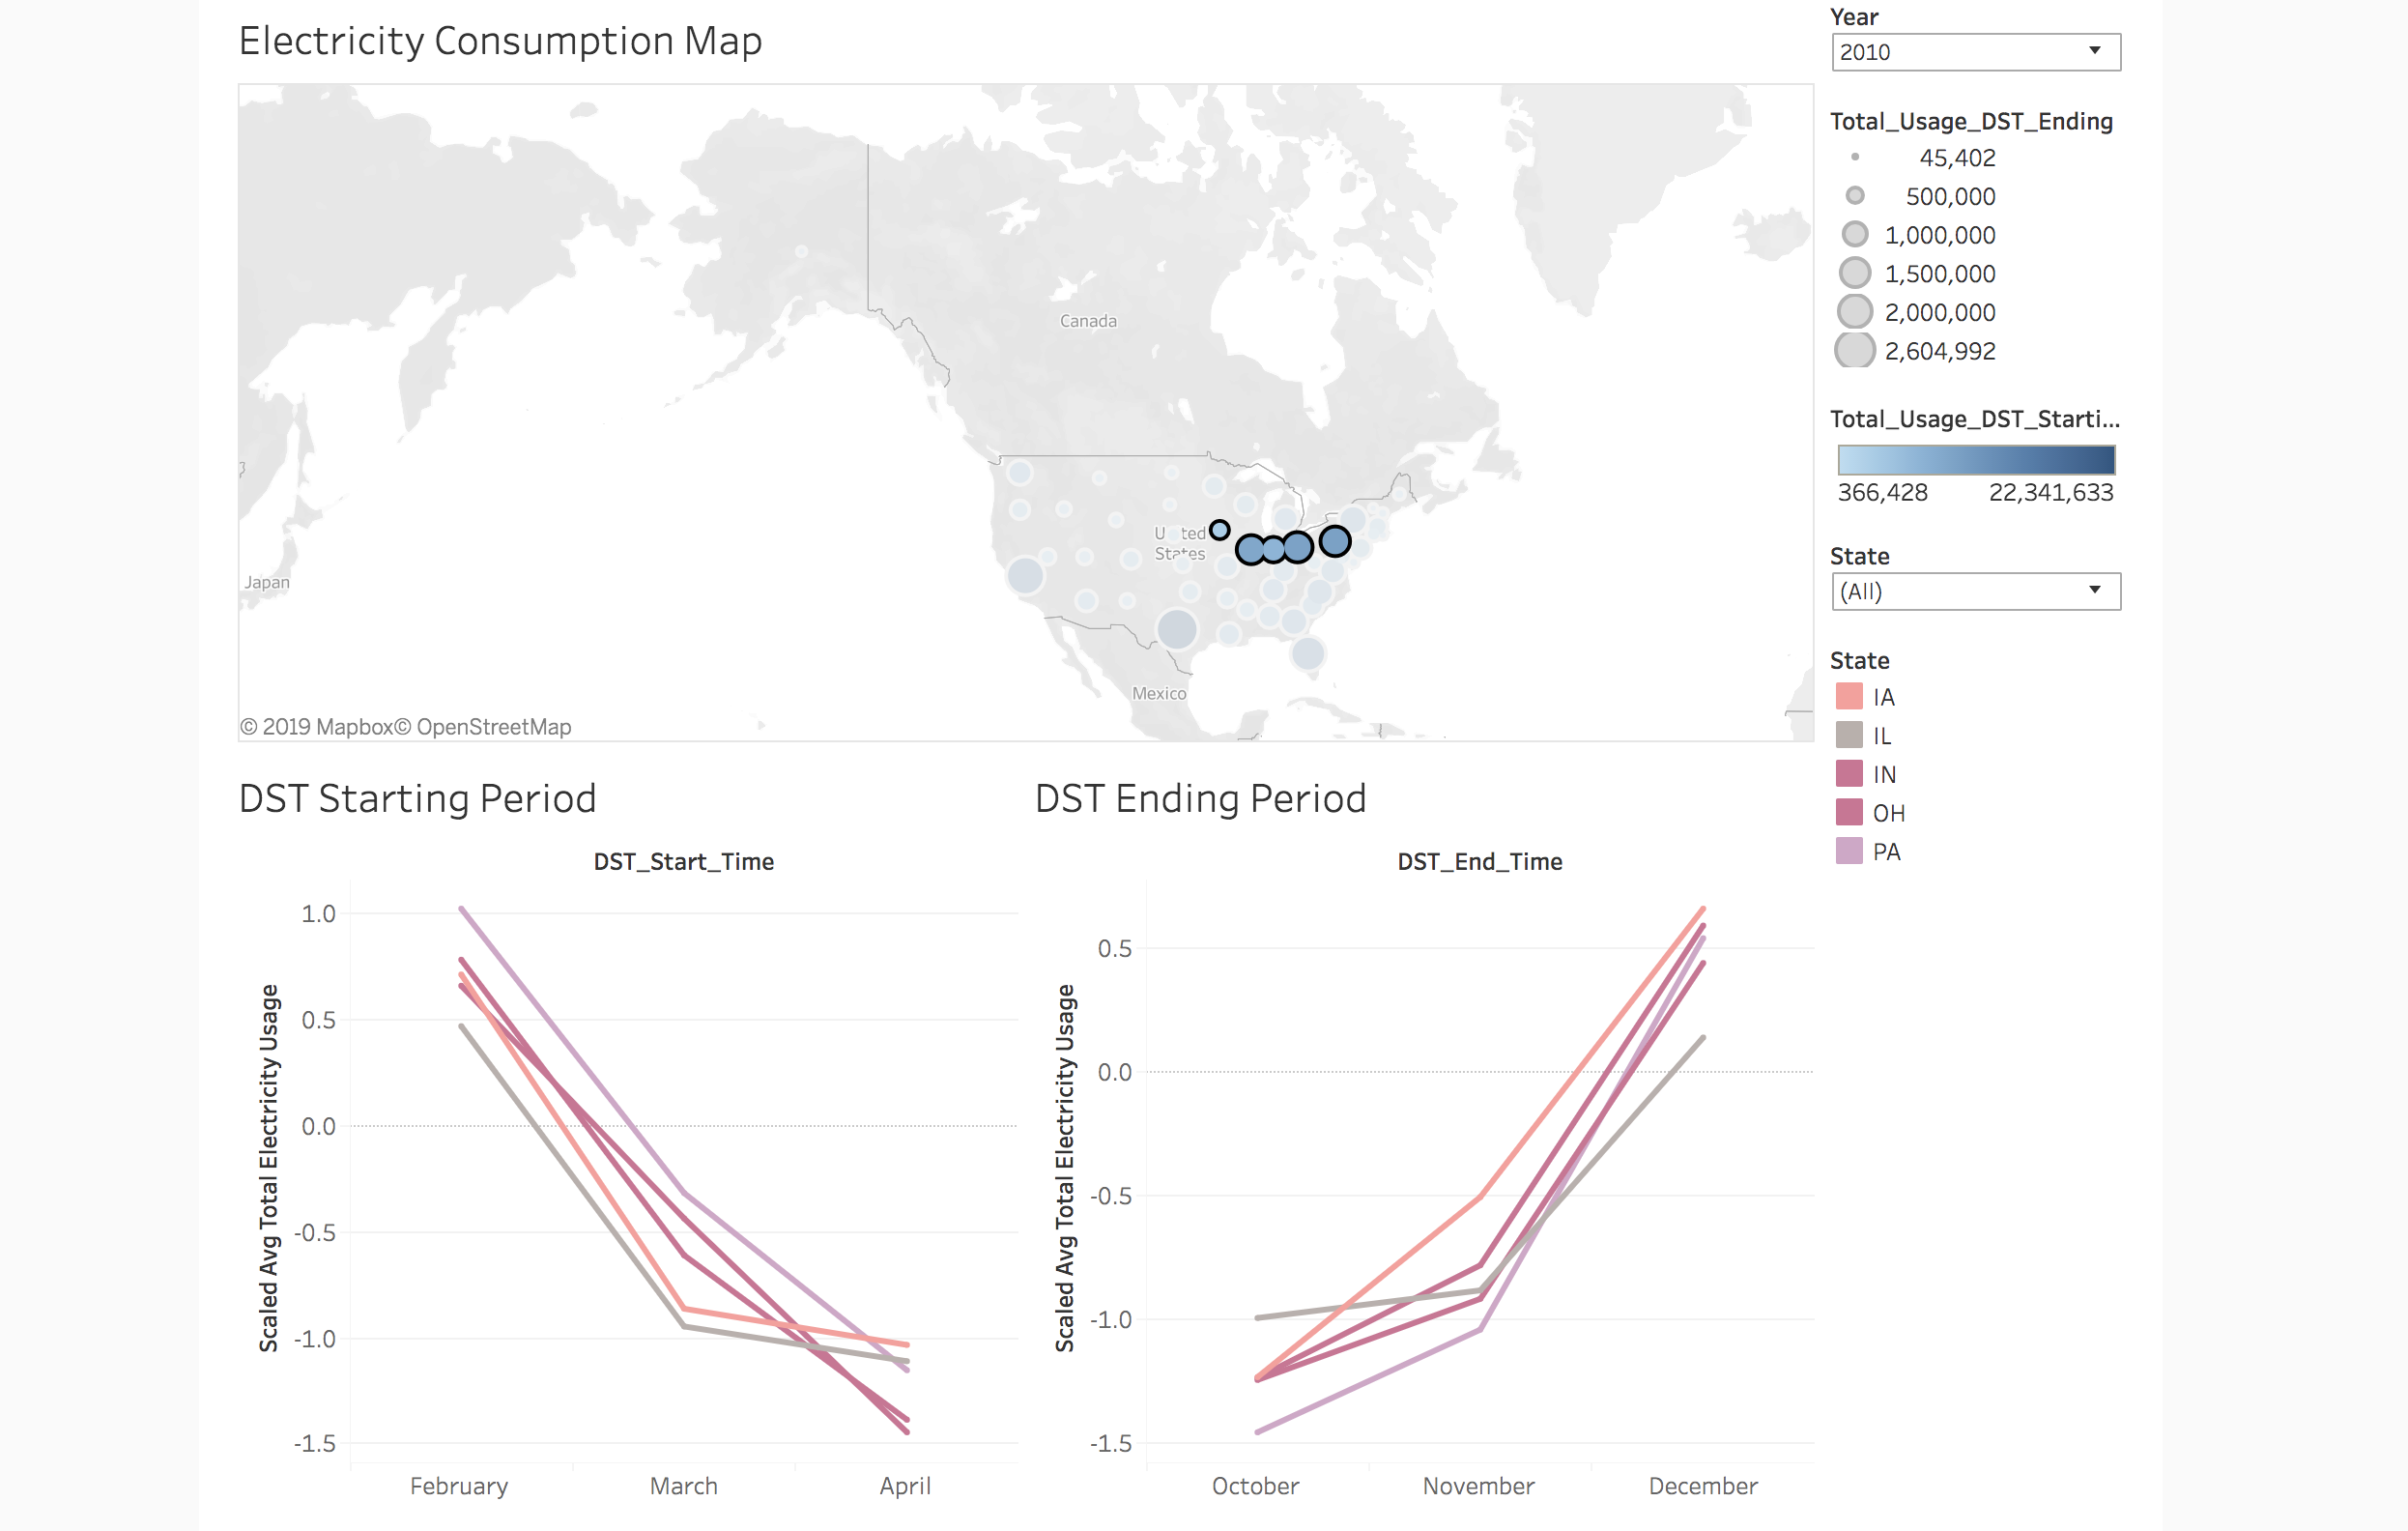

Layout of this report page (visuals, bound fields, positions):
{"tool":"tableau","page":{"name":"Electricity Usage","canvas":[1000,800],"ordinal":1},"visuals":[{"type":"worksheet","title":"Elec_Map","mark":"Automatic","box":[8,8,824,392]},{"type":"filter","title":"Elec_DST_Start","param":"[federated.0jbo1pb11bszpy1821xob1fu1bn9].[none:Year:ok]","box":[832,8,160,52]},{"type":"legend","title":"Elec_Map","param":"[federated.1sijr8700myd7j1byhbi81hl29ij].[sum:Total_sales (elec_dst_end_total.cs","box":[832,60,160,154]},{"type":"legend","title":"Elec_Map","param":"[federated.0jbo1pb11bszpy1821xob1fu1bn9].[sum:Total_sales (elec_dst_start_total.","box":[832,214,160,71]},{"type":"filter","title":"Elec_DST_End","param":"[federated.1sijr8700myd7j1byhbi81hl29ij].[none:State:nk]","box":[832,285,160,52]},{"type":"legend","title":"Elec_DST_Start","param":"[federated.0jbo1pb11bszpy1821xob1fu1bn9].[none:State:nk]","box":[832,337,160,66]},{"type":"worksheet","title":"Elec_DST_Start","mark":"Automatic","rows":["Total_sales"],"cols":["Calculation_1777725636346691584"],"box":[8,400,412,392]},{"type":"worksheet","title":"Elec_DST_End","mark":"Automatic","rows":["Total_sales"],"cols":["Calculation_1777725636348981250"],"box":[420,400,412,392]}]}

Visuals, with their boxes on the page's 1000x800 design canvas (x1, y1, x2, y2). These are canvas units, not pixel positions in the 2408x1531 screenshot, which may show the page scaled, cropped or inside an application window:
"Elec_Map" worksheet: 8:8:832:400
"Elec_DST_Start" filter: 832:8:992:60
"Elec_Map" legend: 832:60:992:214
"Elec_Map" legend: 832:214:992:285
"Elec_DST_End" filter: 832:285:992:337
"Elec_DST_Start" legend: 832:337:992:403
"Elec_DST_Start" worksheet: 8:400:420:792
"Elec_DST_End" worksheet: 420:400:832:792
